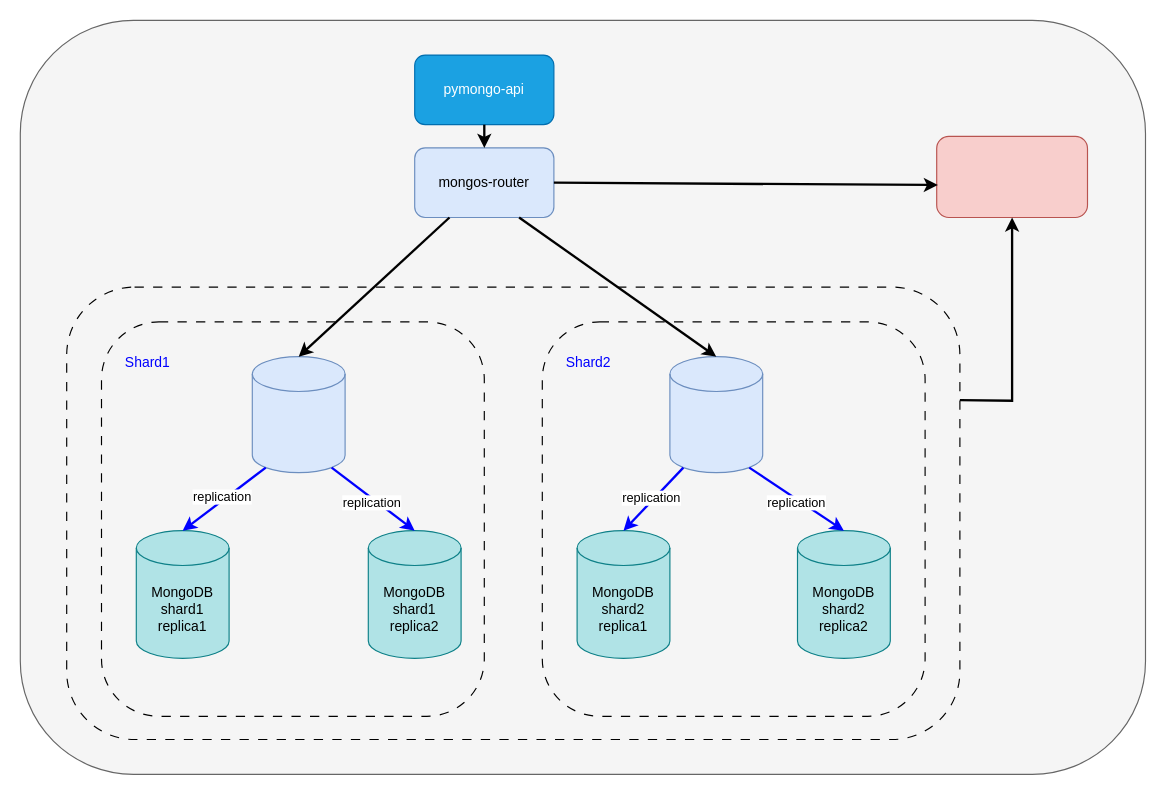
Image size: 1166x795. Some labels were removed from this diagram. Each missing label, with the centre of its shape:
"configSrv (Конфигурационный сервер)" belongs at pixel 1012 176.
"MongoDB shard1 master" belongs at pixel 298 414.
"MongoDB shard2 master" belongs at pixel 716 414.
